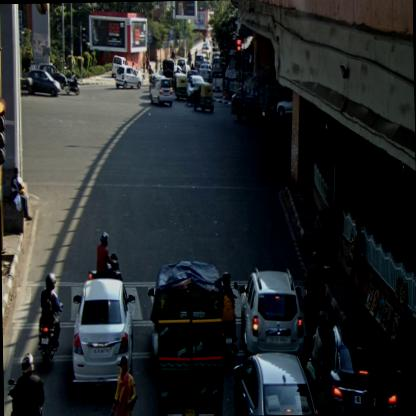car: (70, 278, 137, 394), (323, 321, 398, 413), (239, 265, 308, 356), (232, 350, 326, 415), (25, 70, 62, 100), (36, 62, 68, 92), (150, 74, 173, 108), (116, 64, 142, 90), (111, 54, 128, 76), (276, 94, 292, 115), (199, 62, 212, 83), (178, 56, 192, 74)
motorcycle: (6, 351, 47, 415), (37, 271, 63, 370), (300, 252, 327, 330), (86, 231, 126, 283), (222, 271, 240, 367), (65, 69, 80, 95), (185, 76, 194, 108)
truck: (156, 259, 225, 415), (230, 80, 272, 124)
